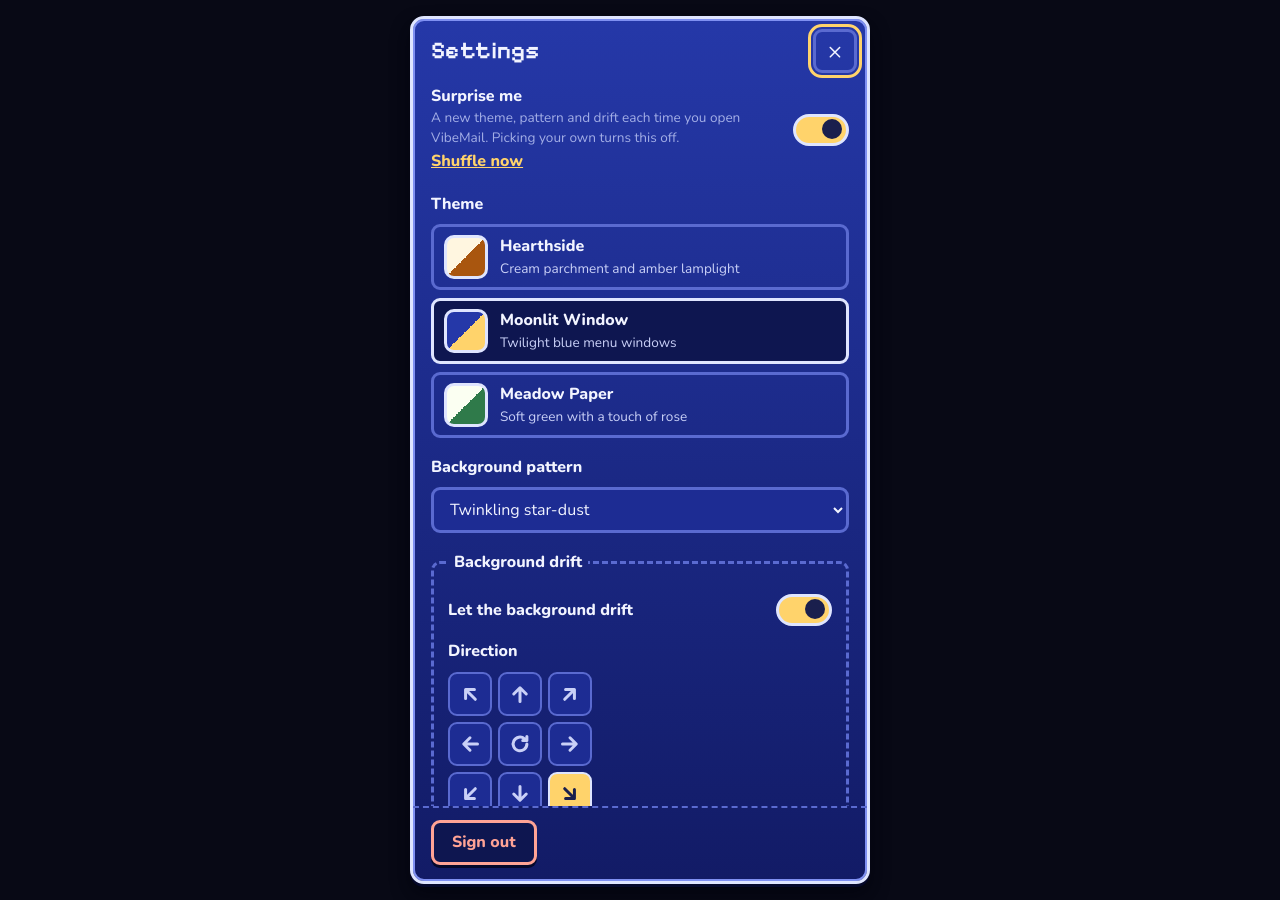
Test: Settings: surprise me (random look) › turns off when you pick a theme yourself, and keeps your pick
Step 1. Click the 1st radio button labelled "Meadow Paper Soft green with a touch of rose" → (640, 405), box [431, 372, 849, 438]
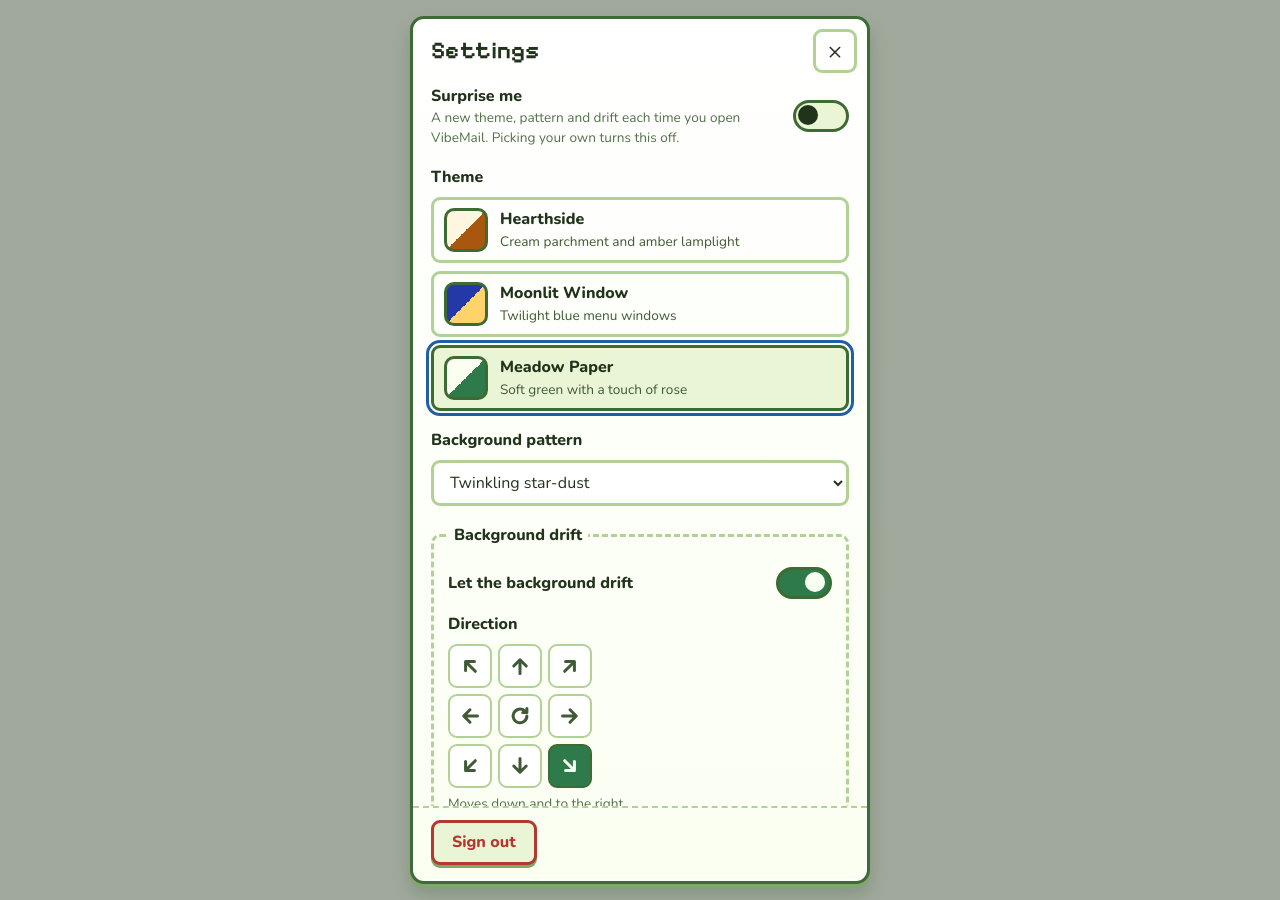
Result: the button "Shuffle now" is gone
